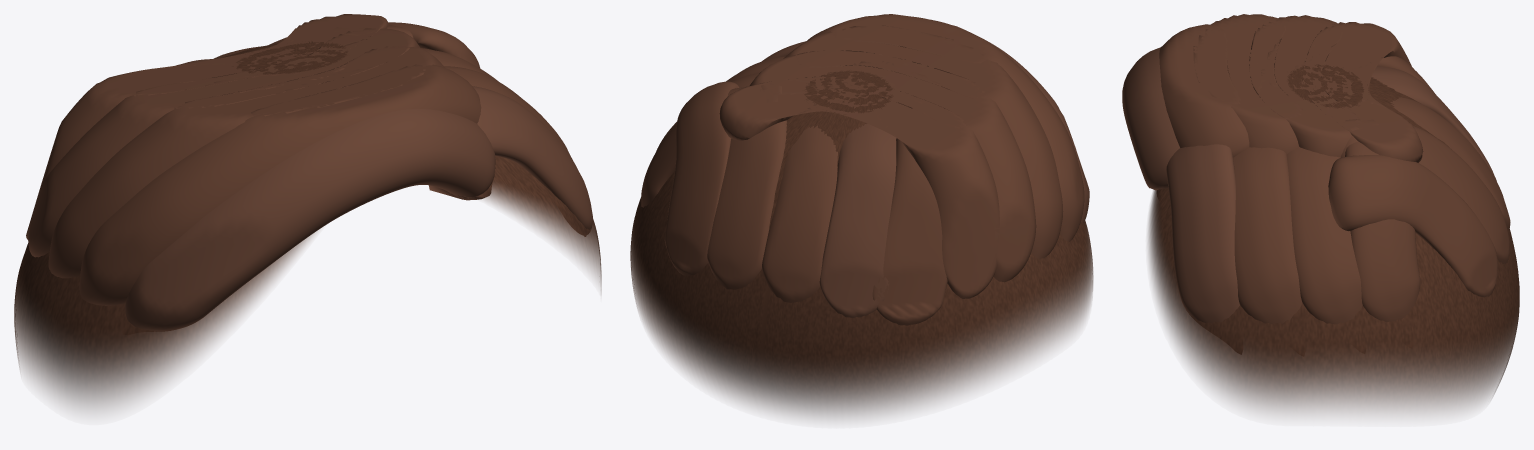
Rendered from Masculine-taper-bucket252-hair.glb.
3 renders of one model, left to right at view 1: azimuth 30°, elevation 25°; view 2: azimuth 150°, elevation 25°; view 3: azimuth 270°, elevation 25°, orthographic. The views are drawn at different scales.
Parts seen in each view (by area): view 1: 226 hair / Hair252 / sculpted locks.001, 226 hair / Hair252 / gentle tonal variation.001, 226 hair / Hair252 / restored153 fade coverage.001; view 2: 226 hair / Hair252 / sculpted locks.001, 226 hair / Hair252 / restored153 fade coverage.001, 226 hair / Hair252 / gentle tonal variation.001; view 3: 226 hair / Hair252 / sculpted locks.001, 226 hair / Hair252 / restored153 fade coverage.001, 226 hair / Hair252 / gentle tonal variation.001.
Boxes of the visible parts, <box> form: 226 hair / Hair252 / sculpted locks.001: <box>26,14,572,305</box>; 226 hair / Hair252 / gentle tonal variation.001: <box>125,59,592,330</box>; 226 hair / Hair252 / restored153 fade coverage.001: <box>14,41,601,410</box>; 226 hair / Hair252 / sculpted locks.001: <box>641,14,1084,325</box>; 226 hair / Hair252 / restored153 fade coverage.001: <box>630,70,1093,418</box>; 226 hair / Hair252 / gentle tonal variation.001: <box>762,19,1089,318</box>; 226 hair / Hair252 / sculpted locks.001: <box>1159,14,1510,324</box>; 226 hair / Hair252 / restored153 fade coverage.001: <box>1148,64,1519,413</box>; 226 hair / Hair252 / gentle tonal variation.001: <box>1122,47,1496,323</box>.
Size of the model in its own units: 0.976 by 0.6782 by 0.7562.
3 materials, 1 textured.
